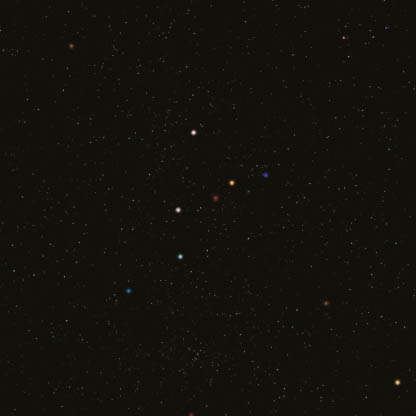Cassiopeia: (205, 167, 242, 203), (114, 280, 143, 304), (164, 195, 187, 222), (183, 123, 203, 150), (168, 247, 189, 272)
